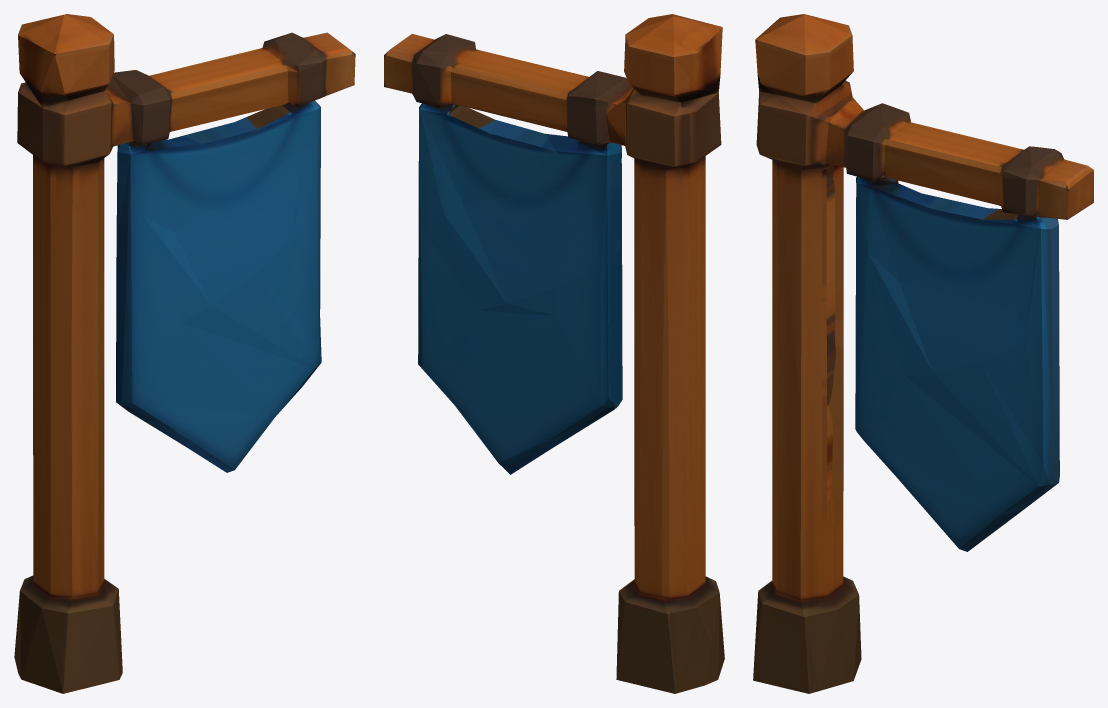
Rendered from player_flag.glb.
3 views of the same model, side by side, from view 1: azimuth 30°, elevation 25°; view 2: azimuth 150°, elevation 25°; view 3: azimuth 330°, elevation 25° (orthographic).
Parts seen in each view (by area): view 1: tmpl1ww0_hw.ply; view 2: tmpl1ww0_hw.ply; view 3: tmpl1ww0_hw.ply.
Part boxes in pixels (left/top/right/bottom): tmpl1ww0_hw.ply: left=14, top=14, right=355, bottom=693; tmpl1ww0_hw.ply: left=384, top=14, right=724, bottom=693; tmpl1ww0_hw.ply: left=753, top=14, right=1093, bottom=693.
Size of the model in its own units: 1.01 by 1.96 by 0.2681.
Materials: 1 (1 with a texture image).
